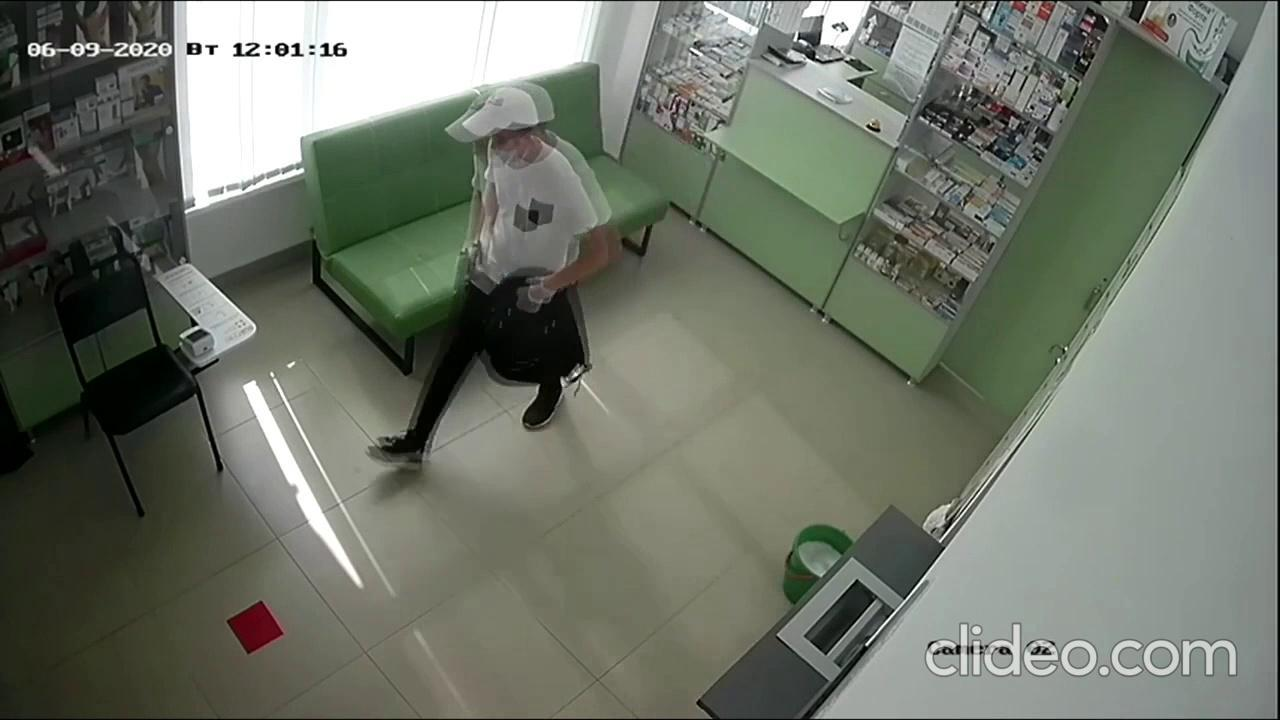person: (359, 76, 625, 475)
pistol: (449, 236, 485, 299)
